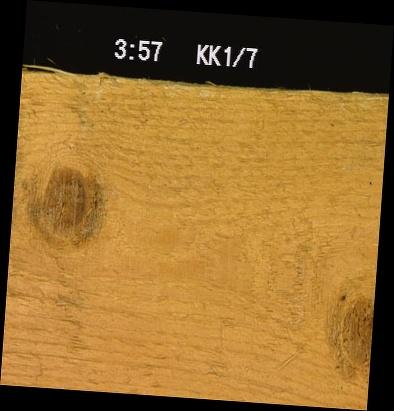sound_knot: (28, 163, 109, 249), (324, 287, 371, 385)
